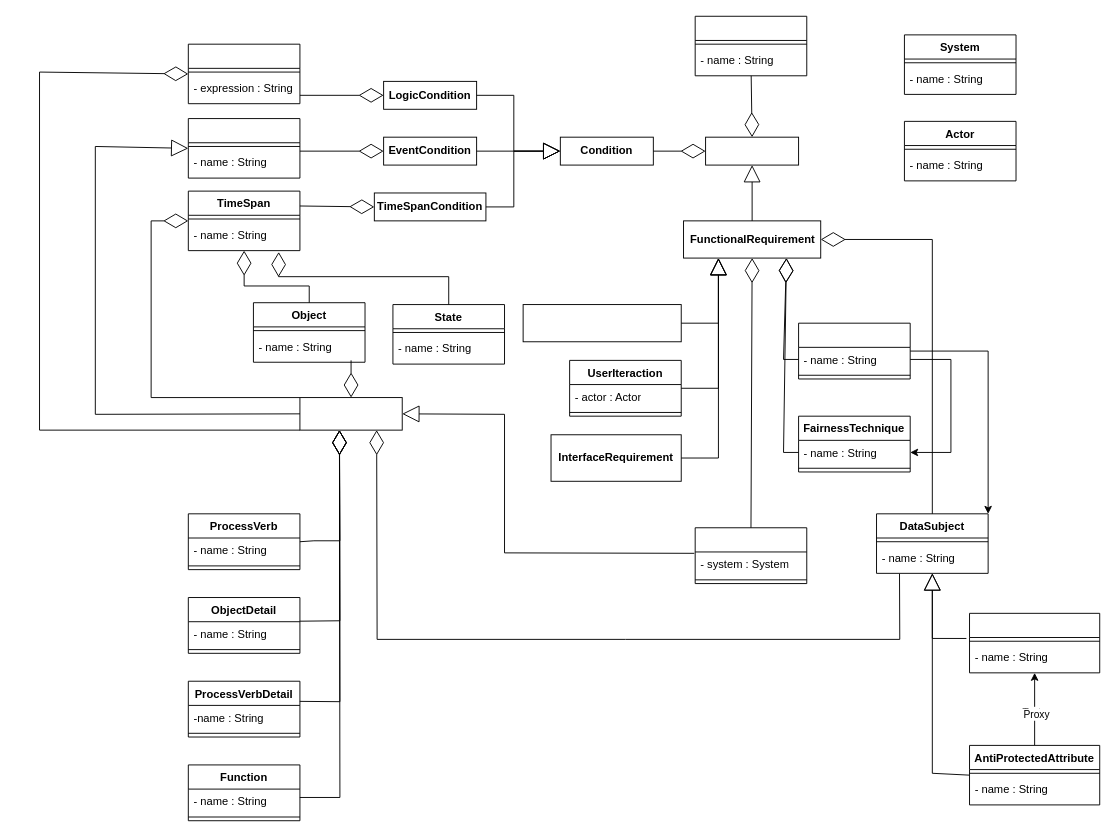
Image size: 1116x838. Some labels were removed from this diagram. Here are the shapes that lost their labels. From the top down, the box of each, then its label:
(694, 15, 807, 76): Liability
(187, 43, 300, 104): LogicExpression
(187, 118, 300, 178): Event
(705, 136, 799, 165): Requirement
(522, 304, 681, 342): AutonomousSystemActivity
(798, 322, 910, 379): FairnessMeasures
(299, 397, 402, 430): Activity
(694, 527, 807, 584): SystemActivity
(969, 612, 1100, 673): ProtectedAttribute
